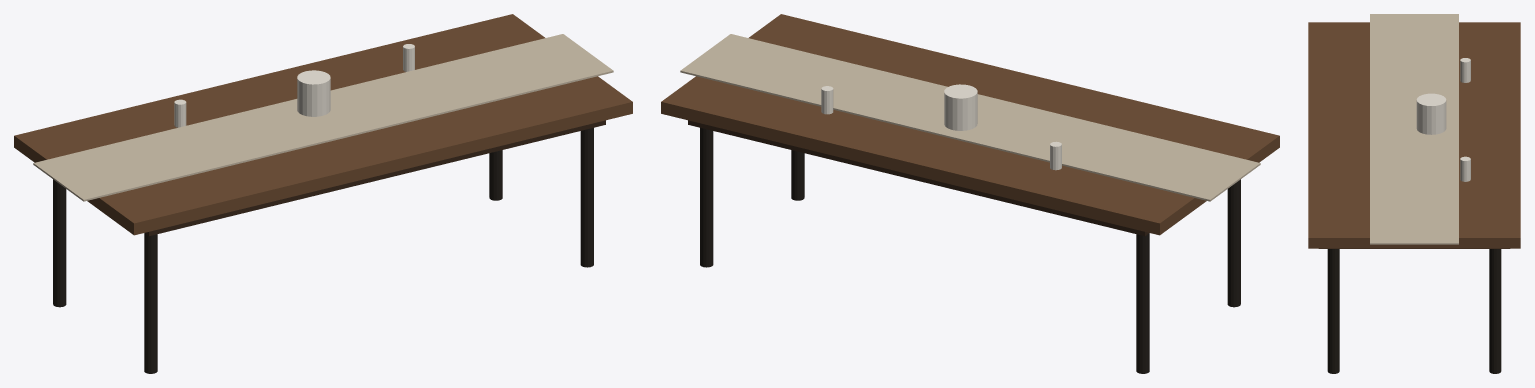
3 renders of one model, left to right at view 1: azimuth 30°, elevation 25°; view 2: azimuth 150°, elevation 25°; view 3: azimuth 270°, elevation 25°, orthographic. The views are drawn at different scales.
Parts seen in each view (by area): view 1: dining-table; view 2: dining-table; view 3: dining-table.
Part boxes in pixels (box(x1,y1,x2,y2)): dining-table: box(14, 14, 632, 373); dining-table: box(661, 14, 1279, 373); dining-table: box(1308, 14, 1520, 373).
Size of the model in its own units: 2.55 by 0.92 by 1.
